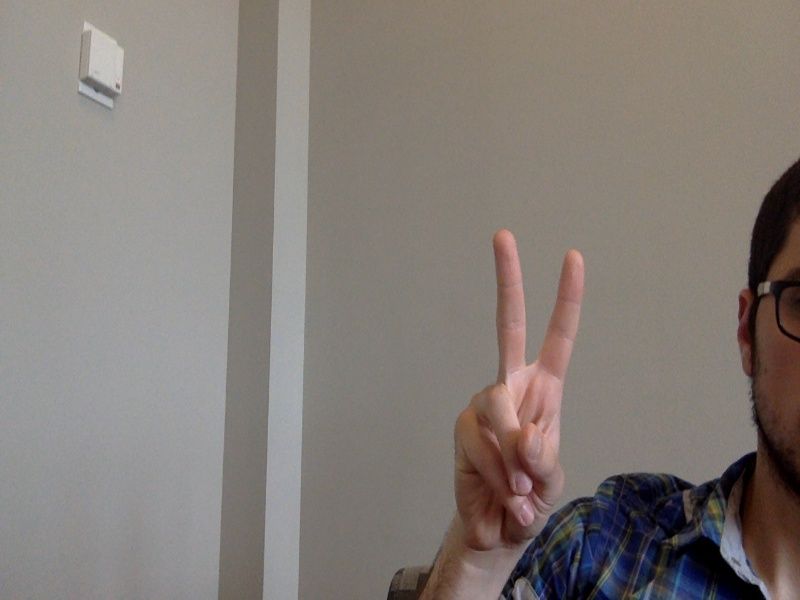2-hand: (451, 227, 586, 561)
